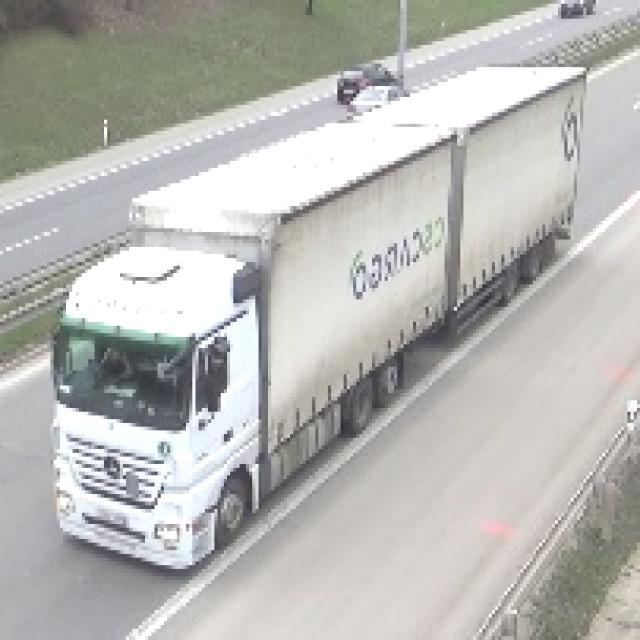SUV: (560, 0, 596, 16)
TRUCK: (36, 74, 578, 571)
